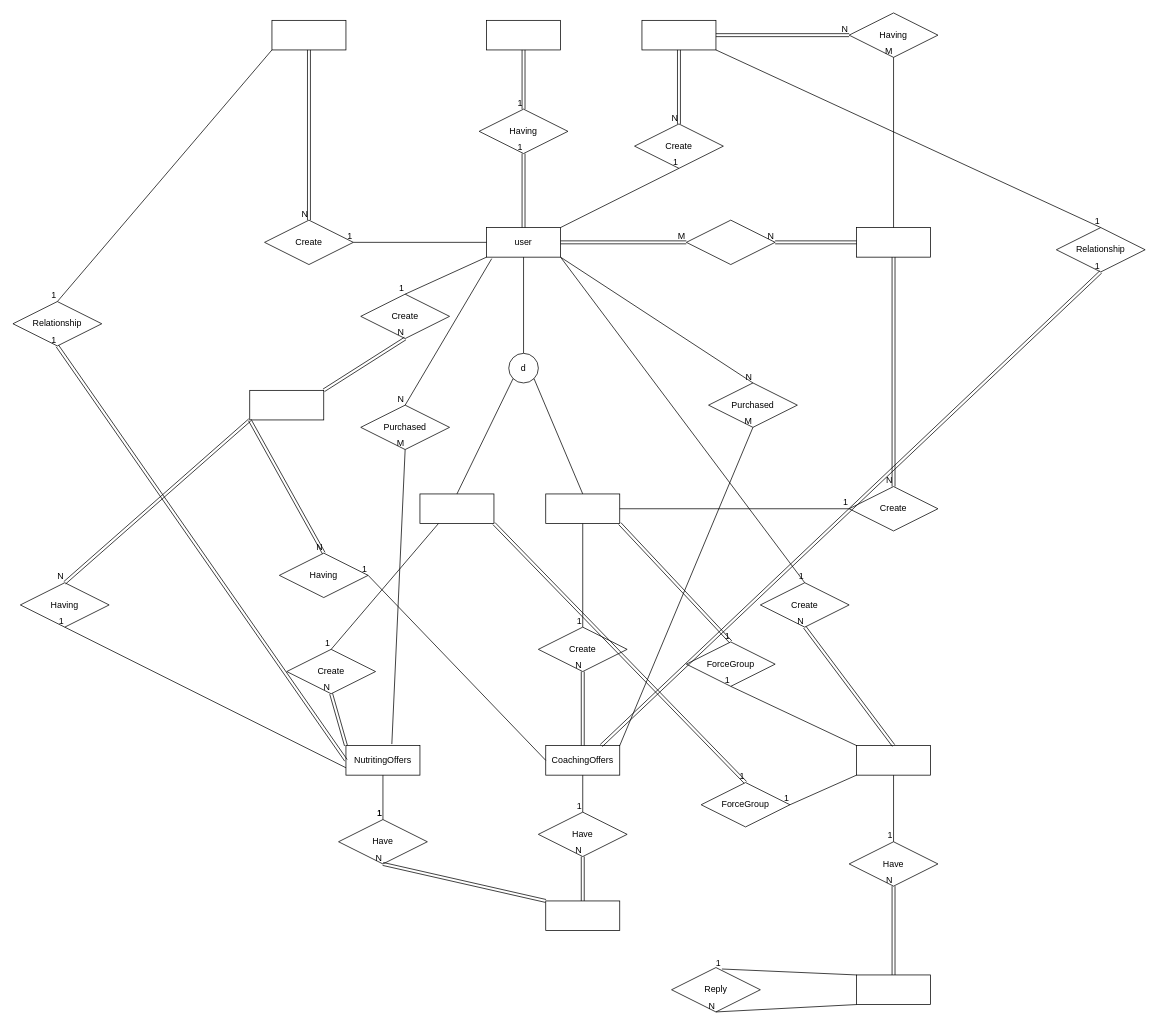
This 1158x1026 diagram has some shape labels left out. The shapes that lost their labels are listed below. From the top down, each one's centre as x and y in pixels, then its label:
At point 308,35: "NutritionPlan".
At point 523,35: "Profile".
At point 678,35: "TrainingProgram".
At point 730,242: "Like".
At point 893,242: "Exercise".
At point 286,405: "Complaint".
At point 456,508: "Nutritionist".
At point 582,508: "coach".
At point 893,760: "Group".
At point 582,915: "Rate".
At point 893,989: "Message".
